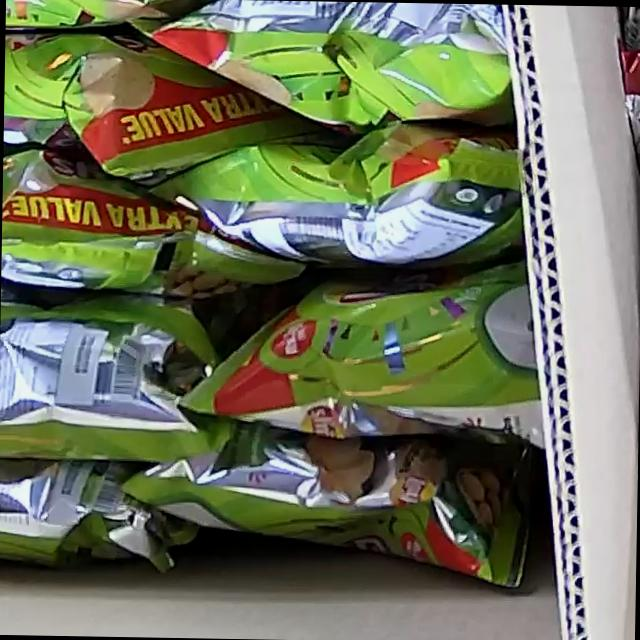yogurt: (0, 0, 548, 589)
